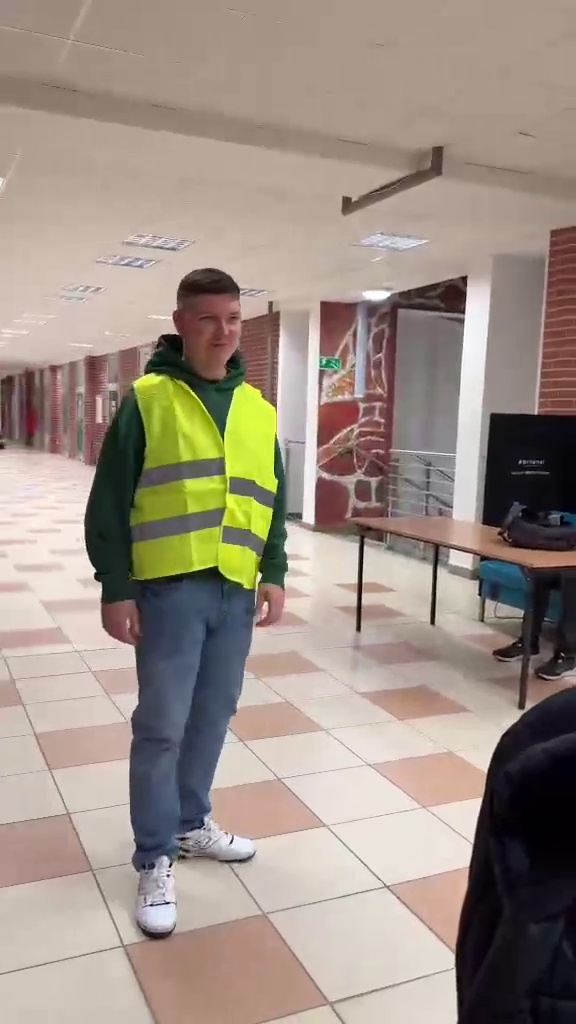vest: (80, 265, 297, 935)
